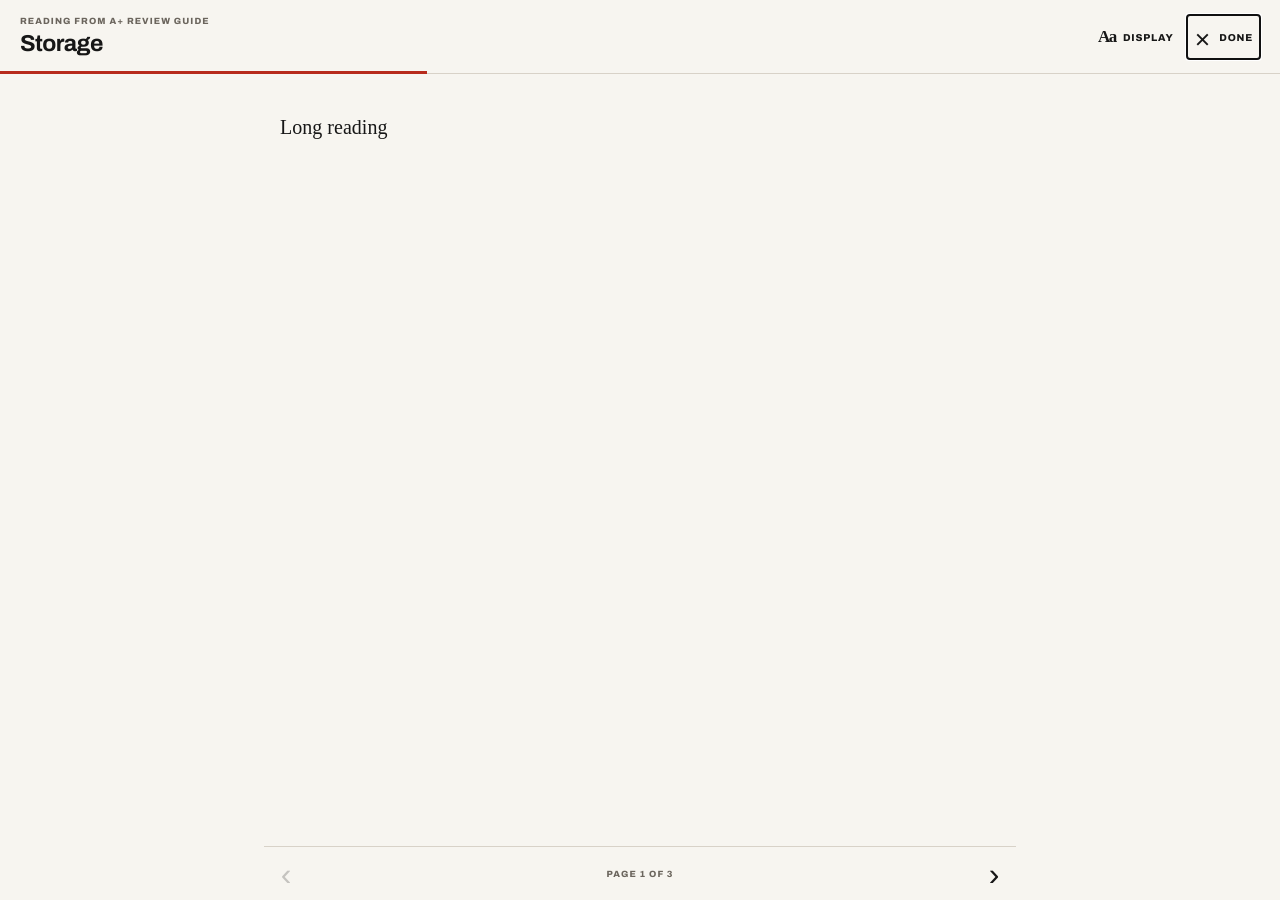
SectionReader › advances one locked page per swipe and remembers that page
This screenshot has width=1280, height=900.
(page scrolled)
Expected: the text "Page 1 of 3" is shown, [606,868,674,878]
Click the button named "Next page": (994, 874) [972,852,1016,896]
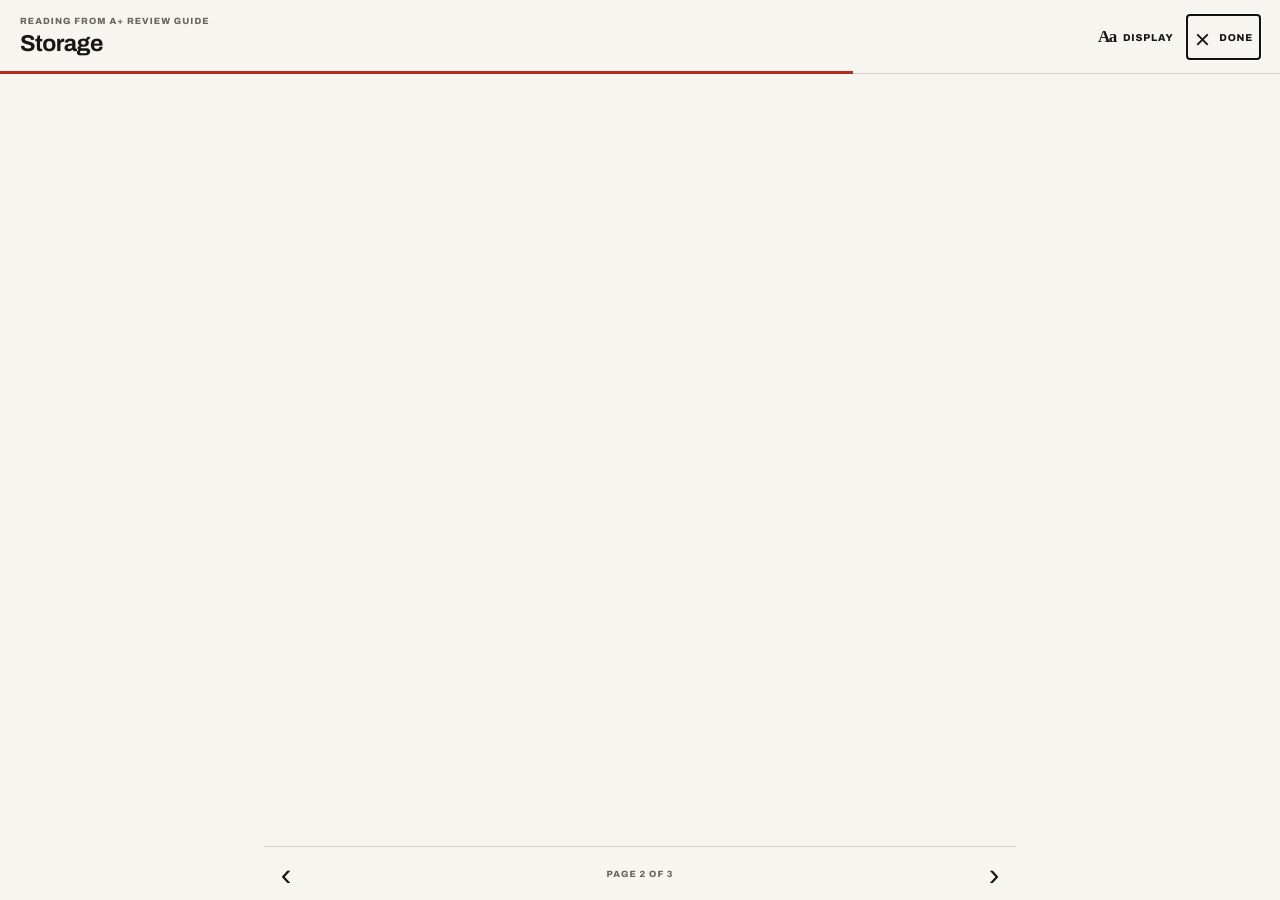
Now the text "Page 2 of 3" is shown, box [606,868,674,878]
Now the element named "67% through section" is shown, box [0,71,853,74]
